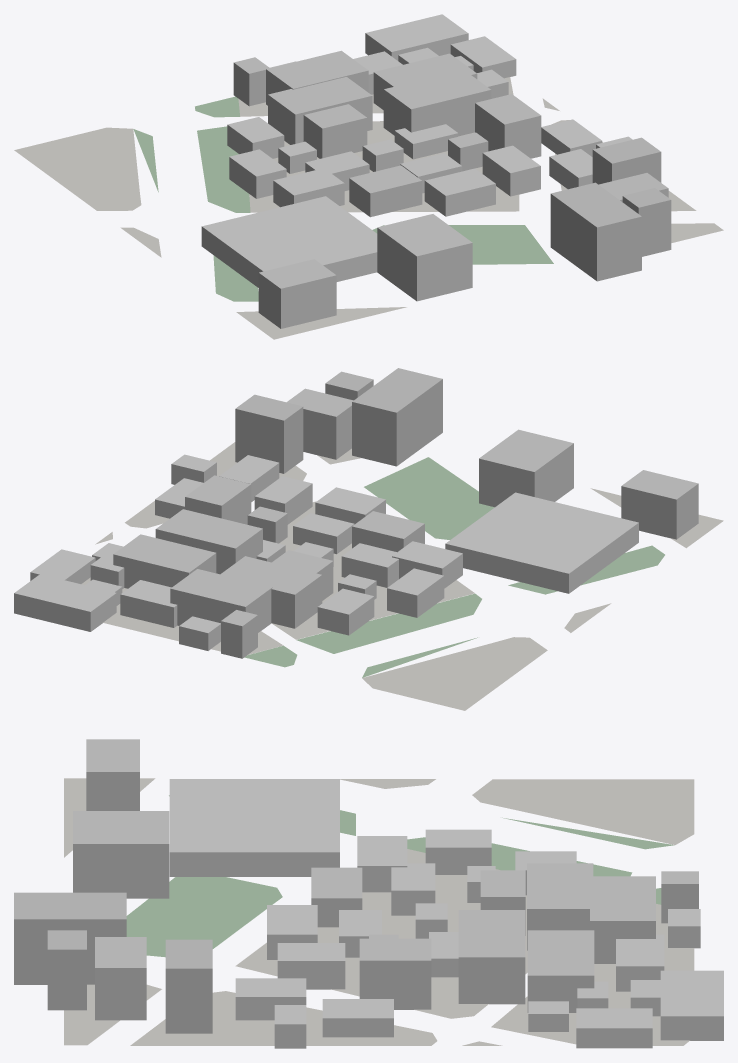
Rendered from 103_91_mid.glb.
The picture shows the model from 3 angles, top to bottom: view 1: azimuth 30°, elevation 25°; view 2: azimuth 150°, elevation 25°; view 3: azimuth 270°, elevation 25°; orthographic projection. The views are drawn at different scales.
Size of the model in its own units: 505 by 58.19 by 563.
